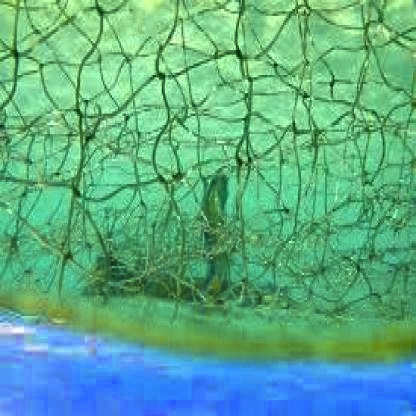net: (1, 2, 416, 286)
